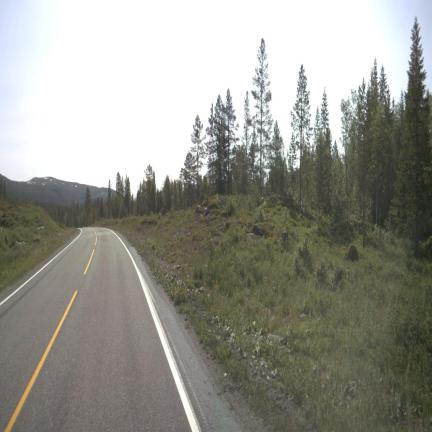Road: (0, 228, 240, 430)
